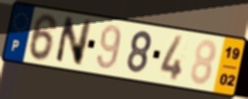4: (158, 34, 185, 84)
6: (28, 12, 59, 63)
8: (188, 38, 219, 88), (125, 29, 154, 76)
9: (95, 24, 123, 72)
N: (52, 15, 94, 68)
